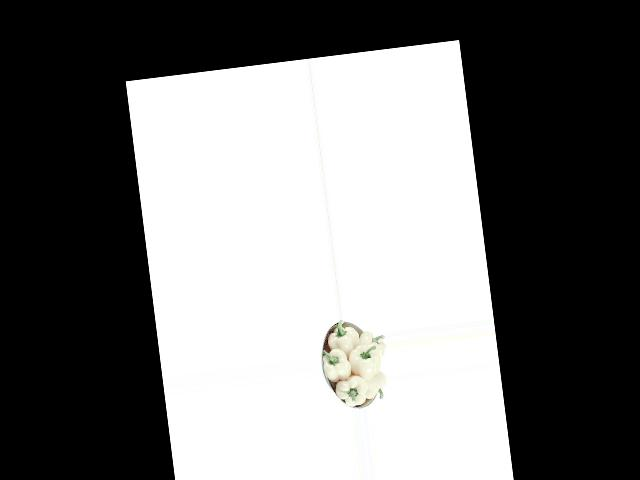bell_pepper: (355, 326, 386, 358)
